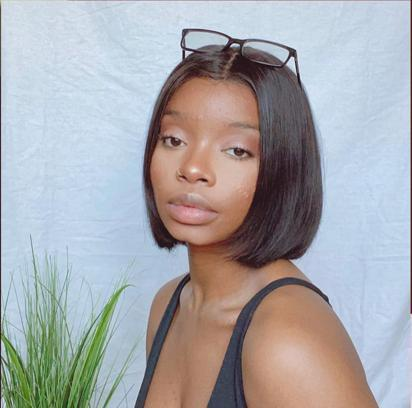Sober: (158, 97, 262, 229)
